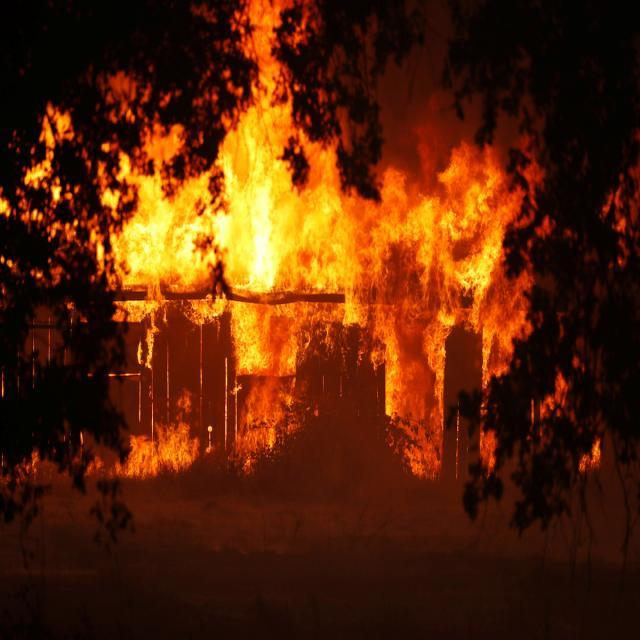Smoke: (366, 228, 449, 505)
